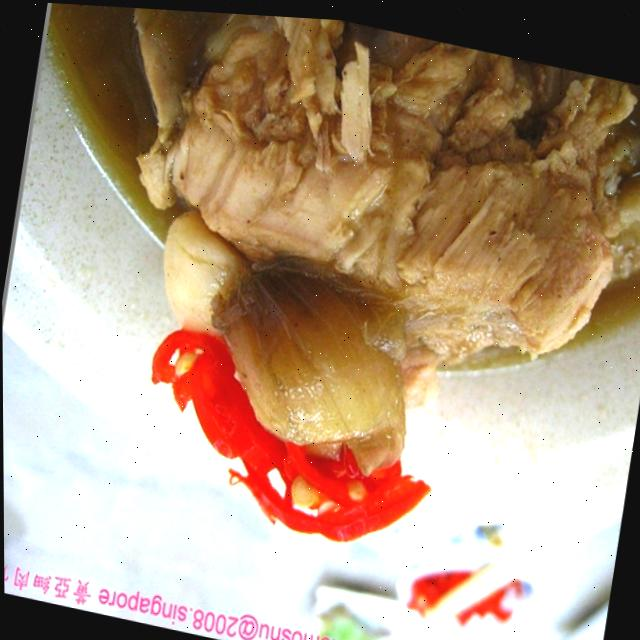汤锅炖物: (28, 1, 640, 581)
